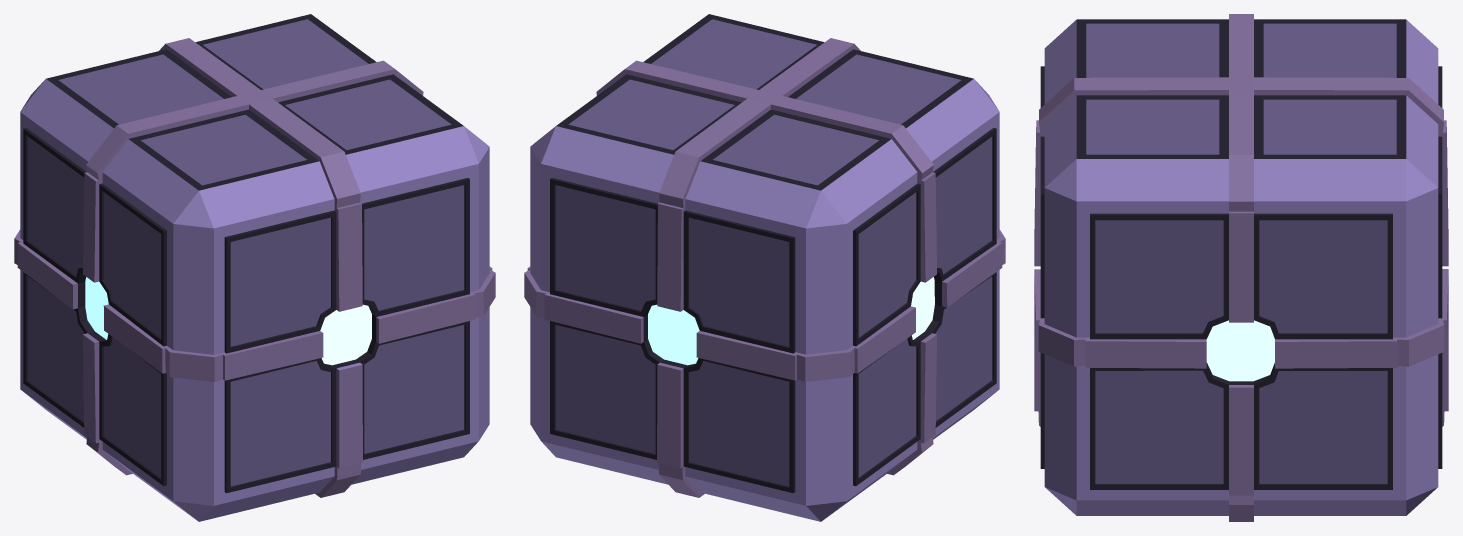
The model's file is Crate.fbx.
The picture shows the model from 3 angles, left to right: view 1: azimuth 30°, elevation 25°; view 2: azimuth 150°, elevation 25°; view 3: azimuth 270°, elevation 25°; orthographic projection. The views are drawn at different scales.
Visible parts, largest first — view 1: Crate; view 2: Crate; view 3: Crate.
Part boxes in pixels (x1,y1,x2,y2): Crate: (14, 14, 495, 521); Crate: (524, 14, 1005, 521); Crate: (1034, 14, 1448, 521).
Size of the model in its own units: 1.05 by 1.03 by 1.05.
